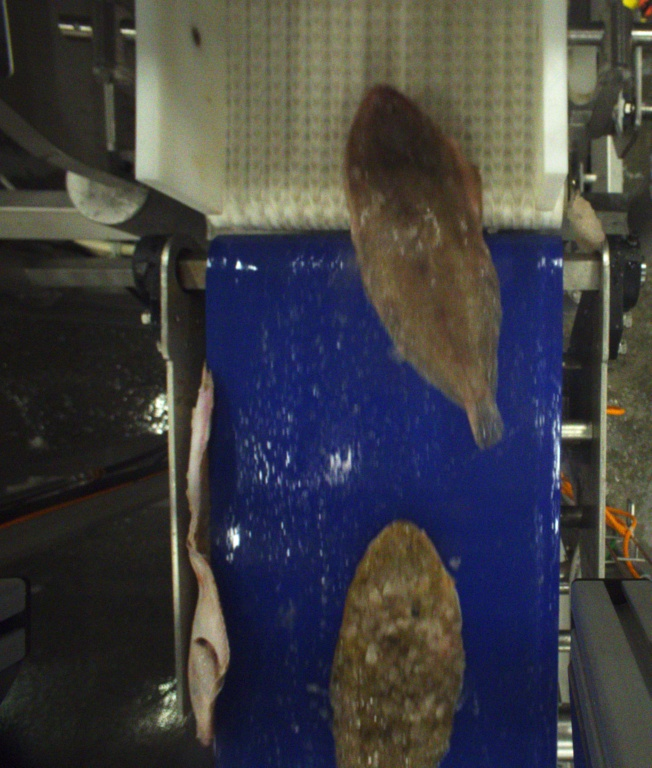SOL: (329, 520, 467, 768)
